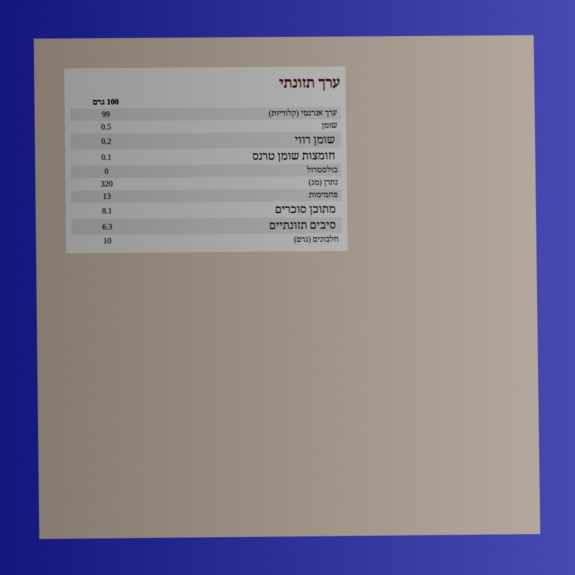carbs: (102, 191, 112, 203)
energy: (101, 109, 111, 121)
fat: (100, 121, 112, 133)
protein: (102, 235, 113, 247)
